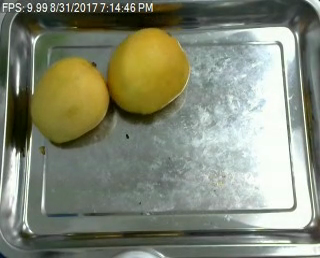Mango: (109, 25, 193, 121), (30, 56, 108, 141)
